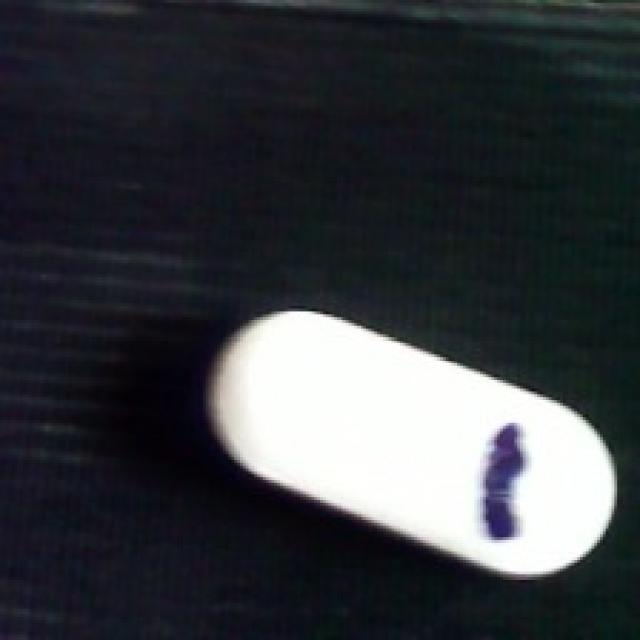defected: (197, 311, 626, 580)
